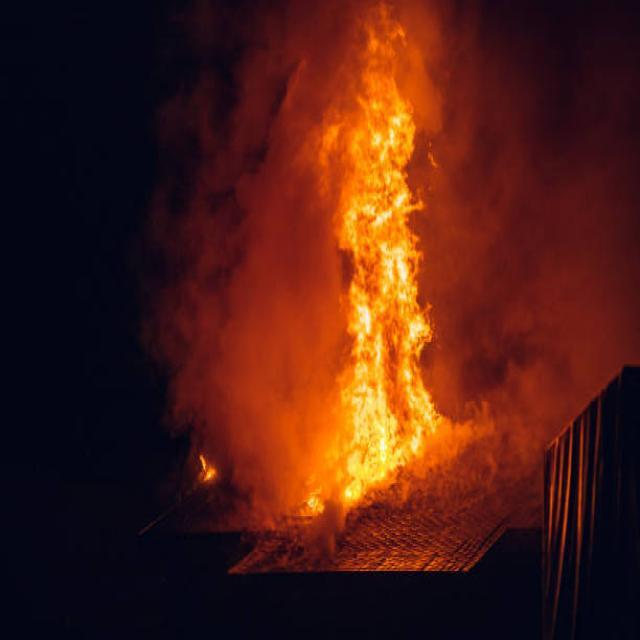Fire: (310, 7, 449, 505)
Smoke: (154, 6, 322, 495), (435, 0, 640, 351), (421, 316, 534, 524)
